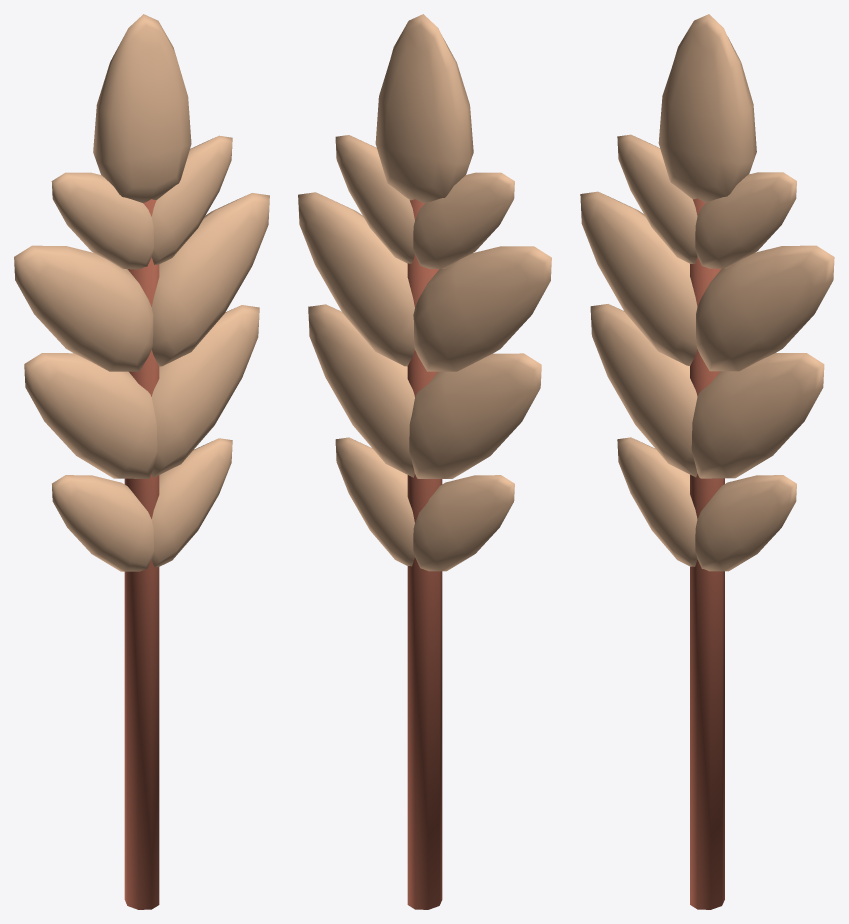
Rendered from Wheat_Biggest_single.fbx.
The picture shows the model from 3 angles, left to right: view 1: azimuth 30°, elevation 25°; view 2: azimuth 150°, elevation 25°; view 3: azimuth 330°, elevation 25°; orthographic projection.
Visible parts, largest first — view 1: Wheat_Biggest_single; view 2: Wheat_Biggest_single; view 3: Wheat_Biggest_single.
Boxes of the visible parts, x1,y1,x2,y2 form: Wheat_Biggest_single: [14, 14, 269, 909]; Wheat_Biggest_single: [298, 14, 551, 909]; Wheat_Biggest_single: [580, 14, 834, 909].
Bounding box in the file's own units: 19.75 × 65.73 × 4.86.
